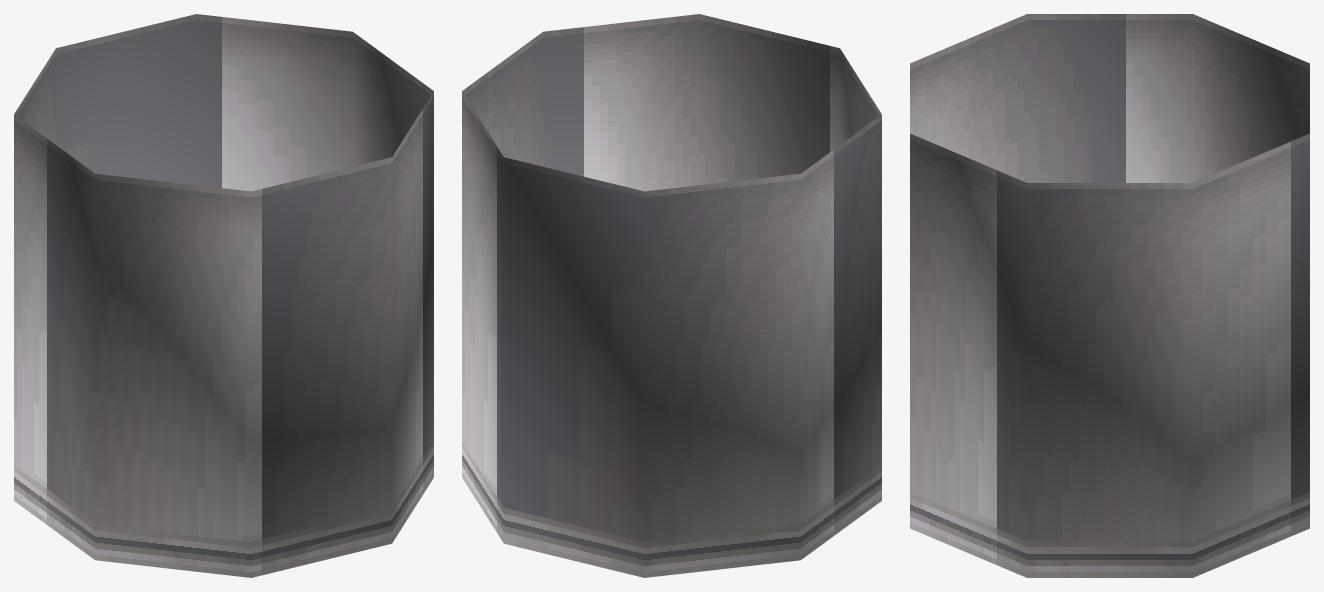
The picture shows the model from 3 angles, left to right: view 1: azimuth 30°, elevation 25°; view 2: azimuth 150°, elevation 25°; view 3: azimuth 270°, elevation 25°; orthographic projection. The views are drawn at different scales.
Parts seen in each view (by area): view 1: 1074item545; view 2: 1074item545; view 3: 1074item545.
Part boxes in pixels (x1=…): 1074item545: x1=14, y1=14, x2=433, y2=577; 1074item545: x1=462, y1=14, x2=881, y2=577; 1074item545: x1=910, y1=14, x2=1309, y2=577.
Size of the model in its own units: 0.4297 by 0.5266 by 0.4297.
1 material, 1 textured.
